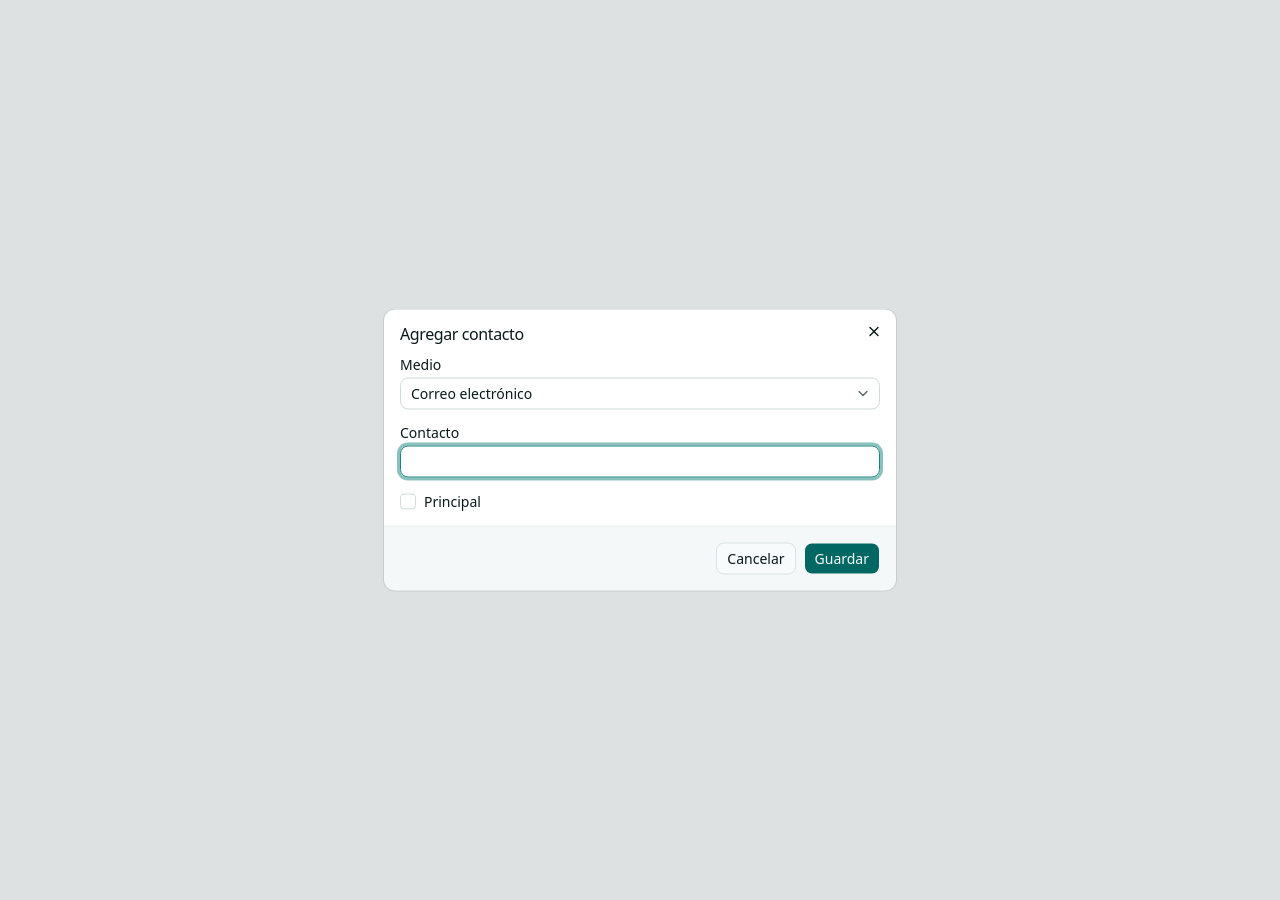
Test: AddContactDialog › shows a 422 without field errors as a whole, and stays open
The width and height of the screenshot is (1280, 900).
Click the dropdown named "Medio" at (472, 393), box top-left (400, 378), bottom-right (880, 410)
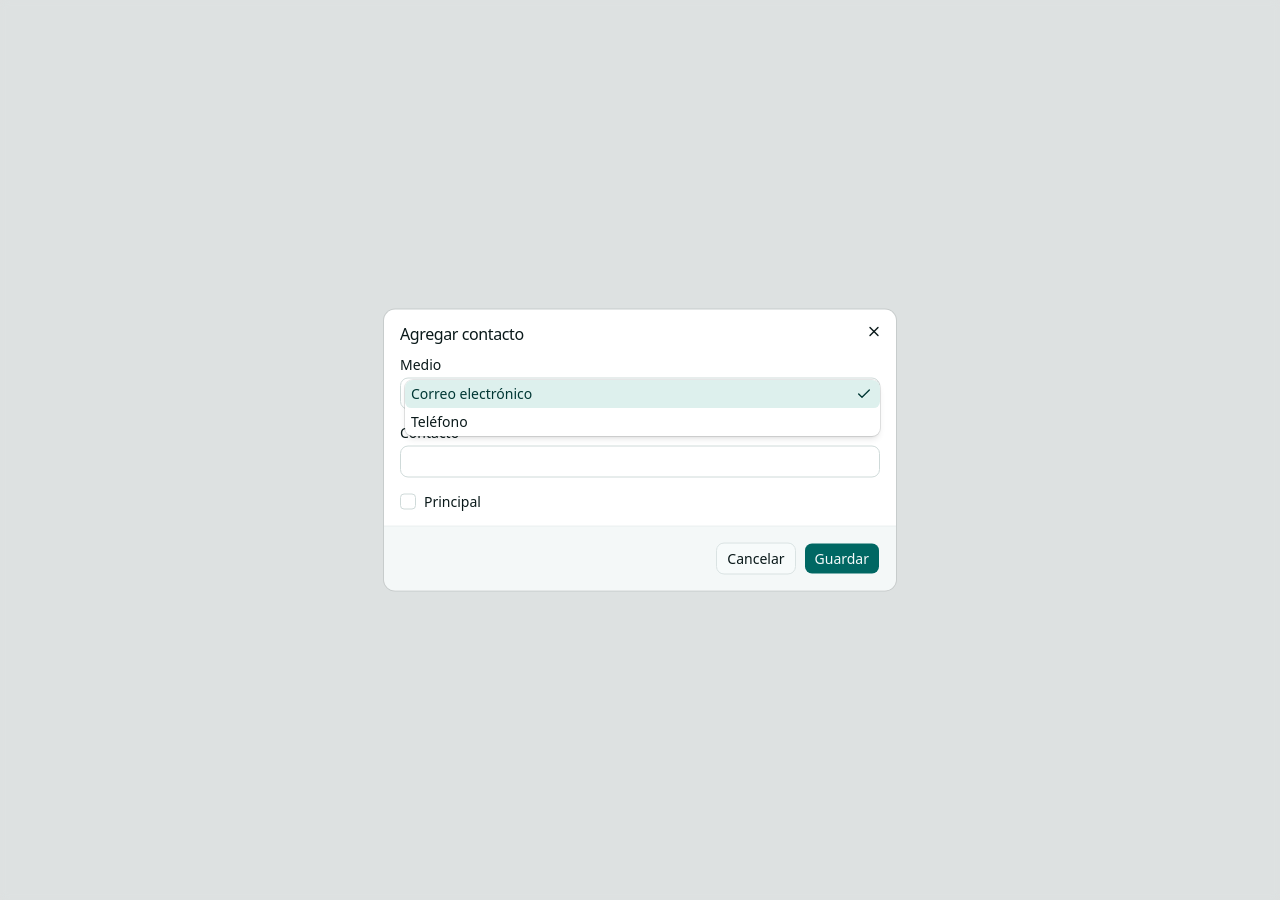
Click the option "Teléfono" at (439, 421), box top-left (411, 412), bottom-right (468, 430)
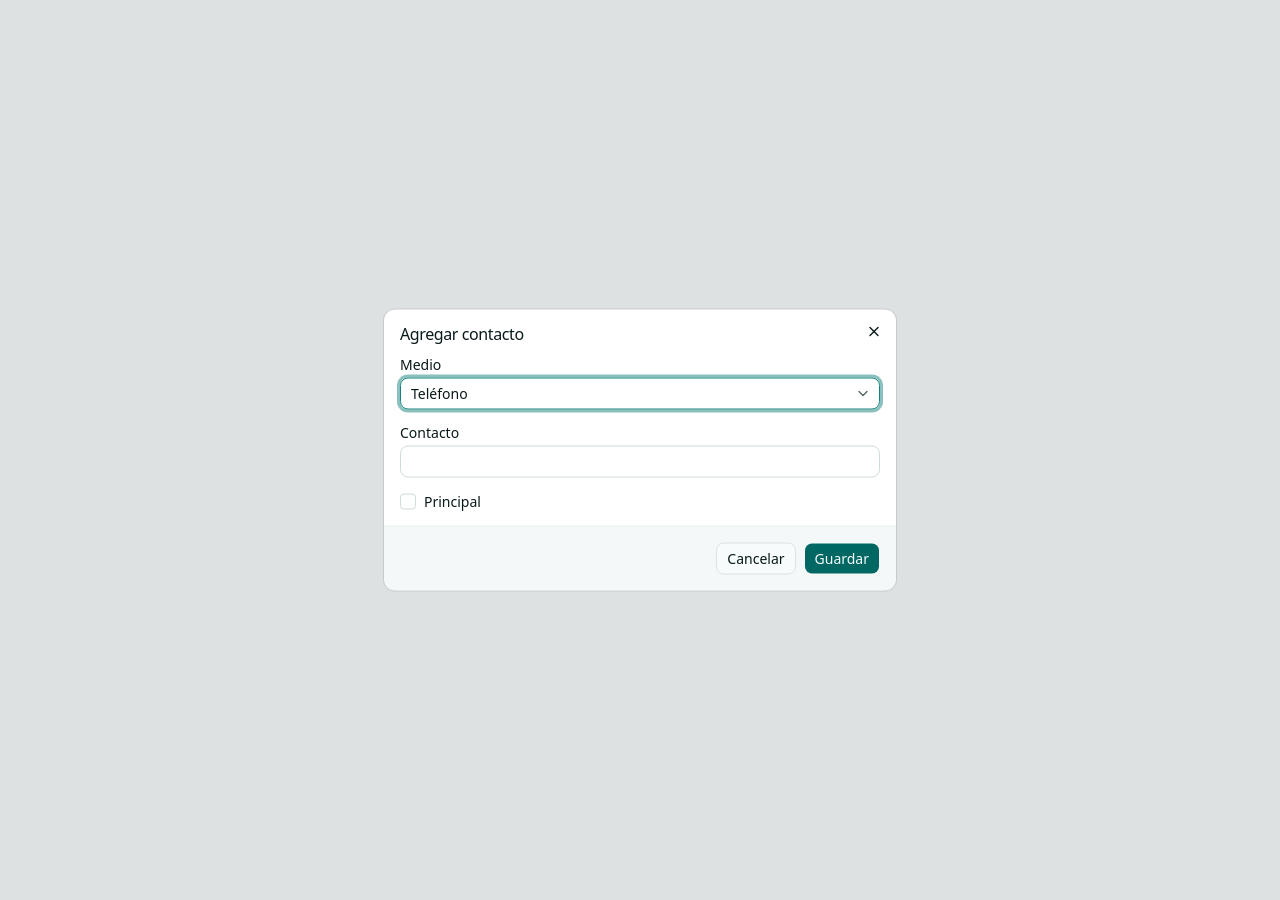
Type "+525512345678" into the field labelled "Contacto" at (640, 462), box top-left (400, 446), bottom-right (880, 478)
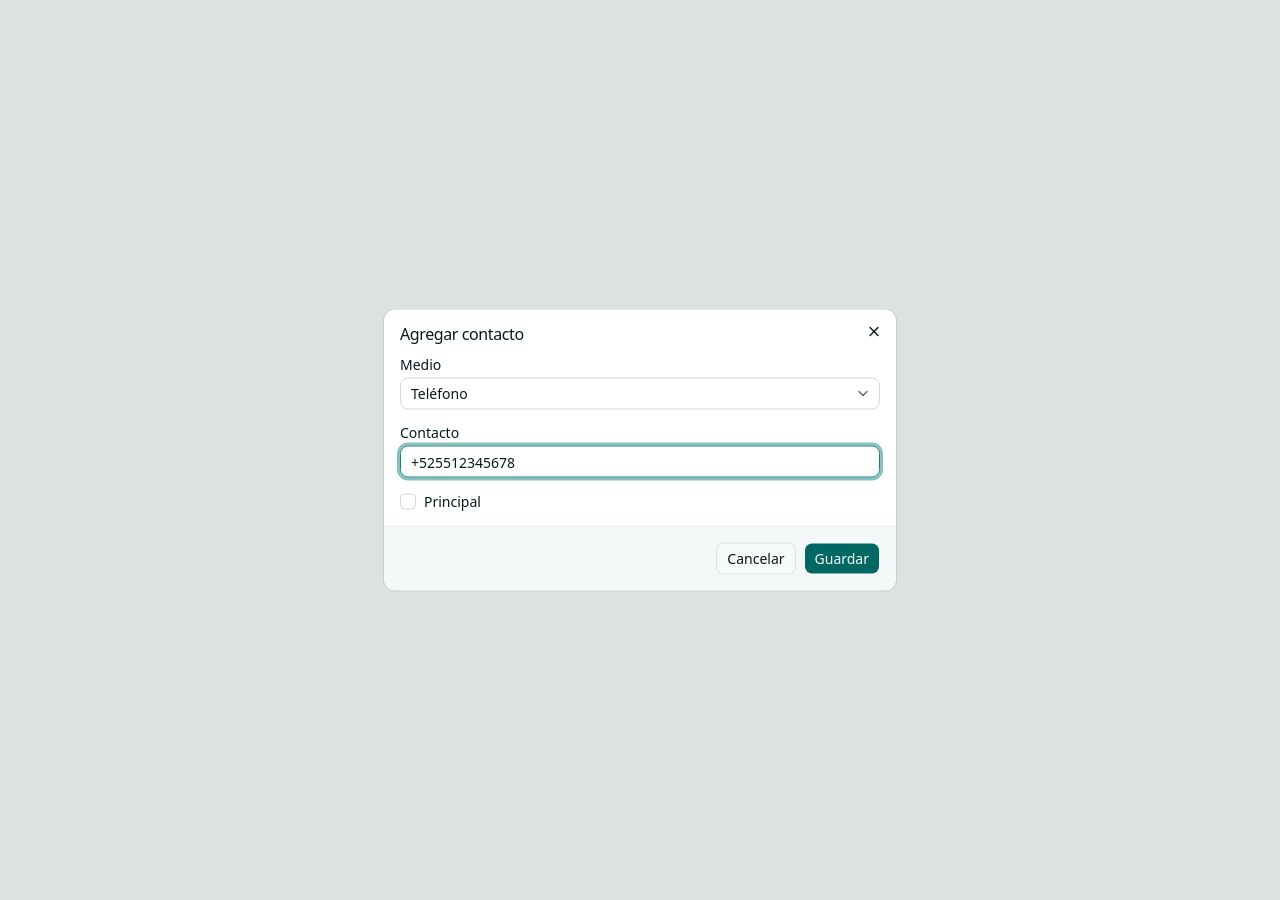
Click the checkbox named "Principal" at (408, 502), box top-left (400, 494), bottom-right (416, 510)
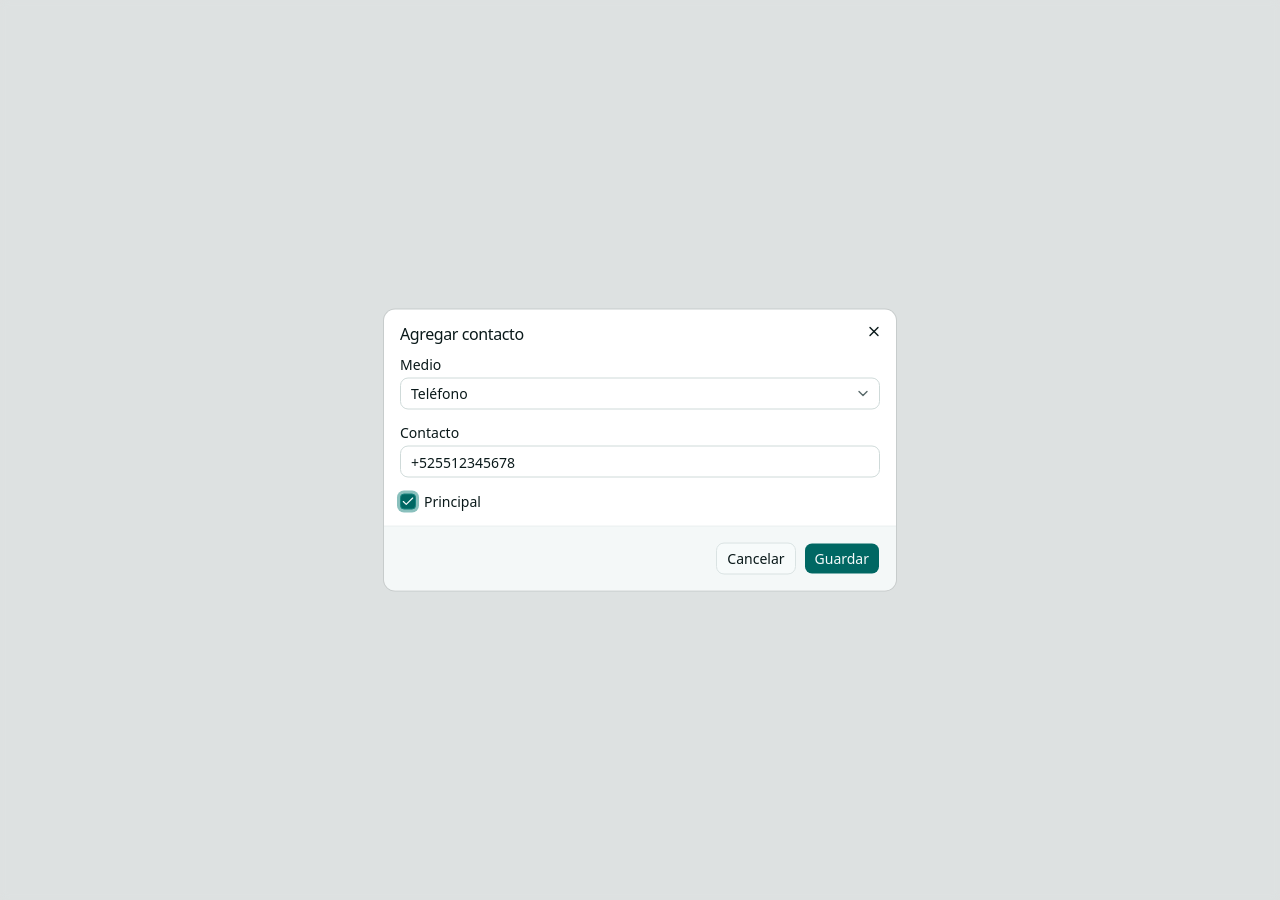
Click the button "Guardar" at (842, 558), box top-left (804, 542), bottom-right (880, 574)
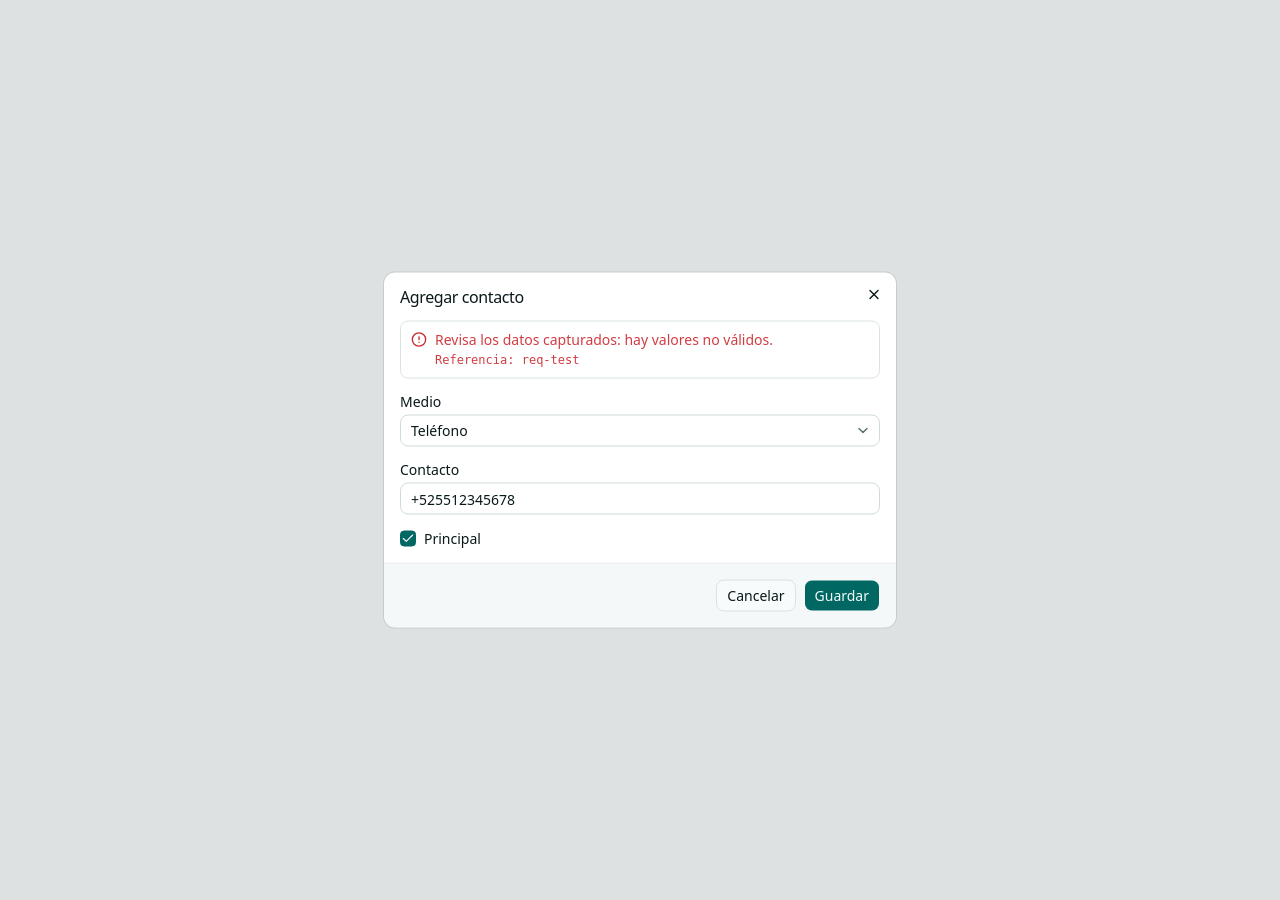
expect the message shows "Revisa los datos capturados: hay valores no válidos.": met, box top-left (435, 330), bottom-right (773, 348)
